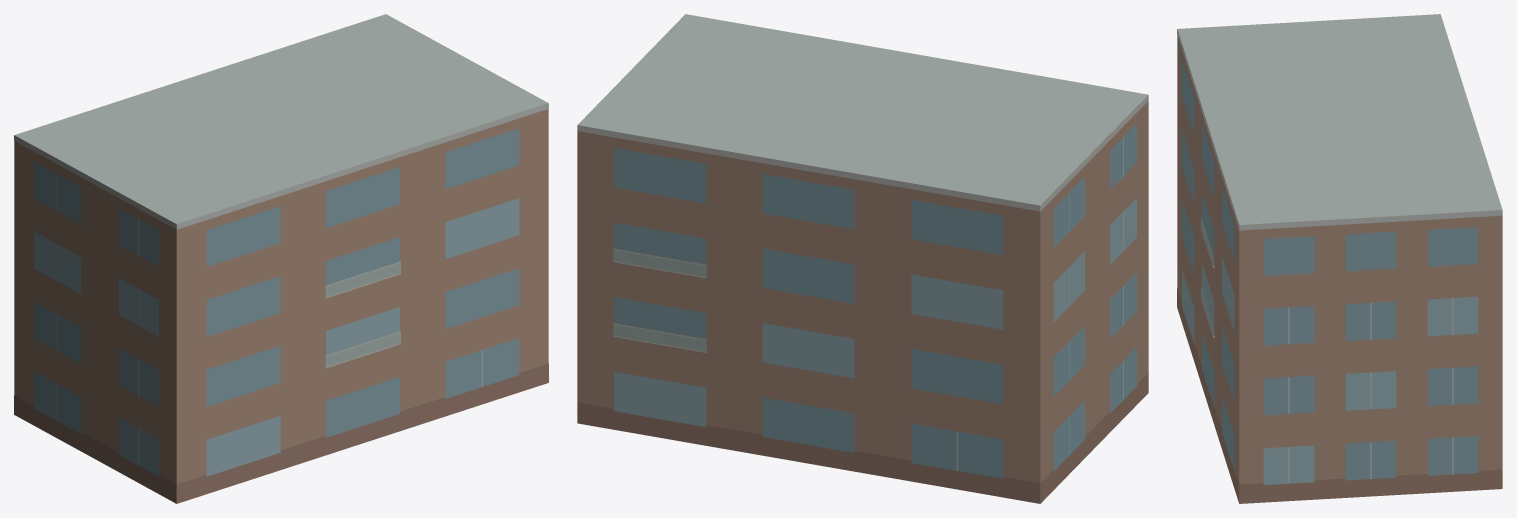
The model's file is residential-ce2a9815-2bdd-4031-8bd6-c318cbb0742a.glb.
3 renders of one model, left to right at view 1: azimuth 30°, elevation 25°; view 2: azimuth 150°, elevation 25°; view 3: azimuth 270°, elevation 25°, orthographic. The views are drawn at different scales.
Parts seen in each view (by area): view 1: residential-ce2a9815-2bdd-4031-8bd6-c318cbb0742a.tmp; view 2: residential-ce2a9815-2bdd-4031-8bd6-c318cbb0742a.tmp; view 3: residential-ce2a9815-2bdd-4031-8bd6-c318cbb0742a.tmp.
Boxes of the visible parts, x1=… form: residential-ce2a9815-2bdd-4031-8bd6-c318cbb0742a.tmp: x1=14, y1=14, x2=548, y2=503; residential-ce2a9815-2bdd-4031-8bd6-c318cbb0742a.tmp: x1=577, y1=14, x2=1148, y2=503; residential-ce2a9815-2bdd-4031-8bd6-c318cbb0742a.tmp: x1=1177, y1=14, x2=1502, y2=503.
Size of the model in its own units: 19.81 by 12.2 by 12.91.
